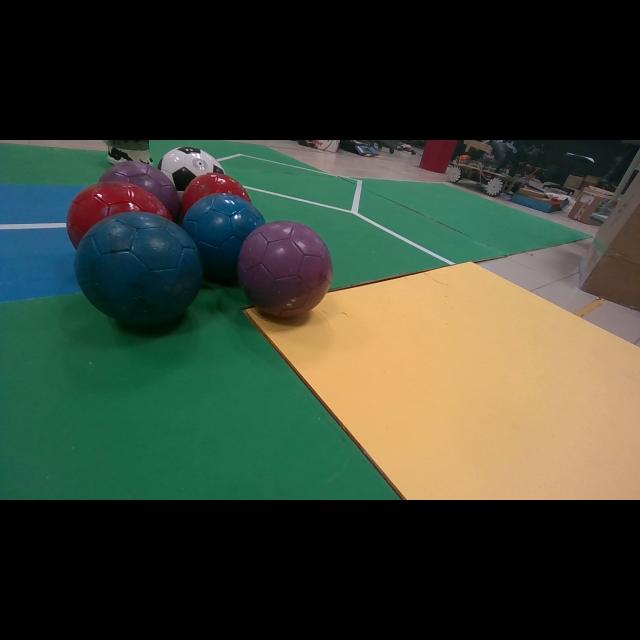B: (75, 212, 202, 324), (182, 194, 265, 280)
P: (238, 221, 332, 316), (99, 161, 180, 221)
R: (66, 181, 172, 248), (181, 172, 251, 214)
